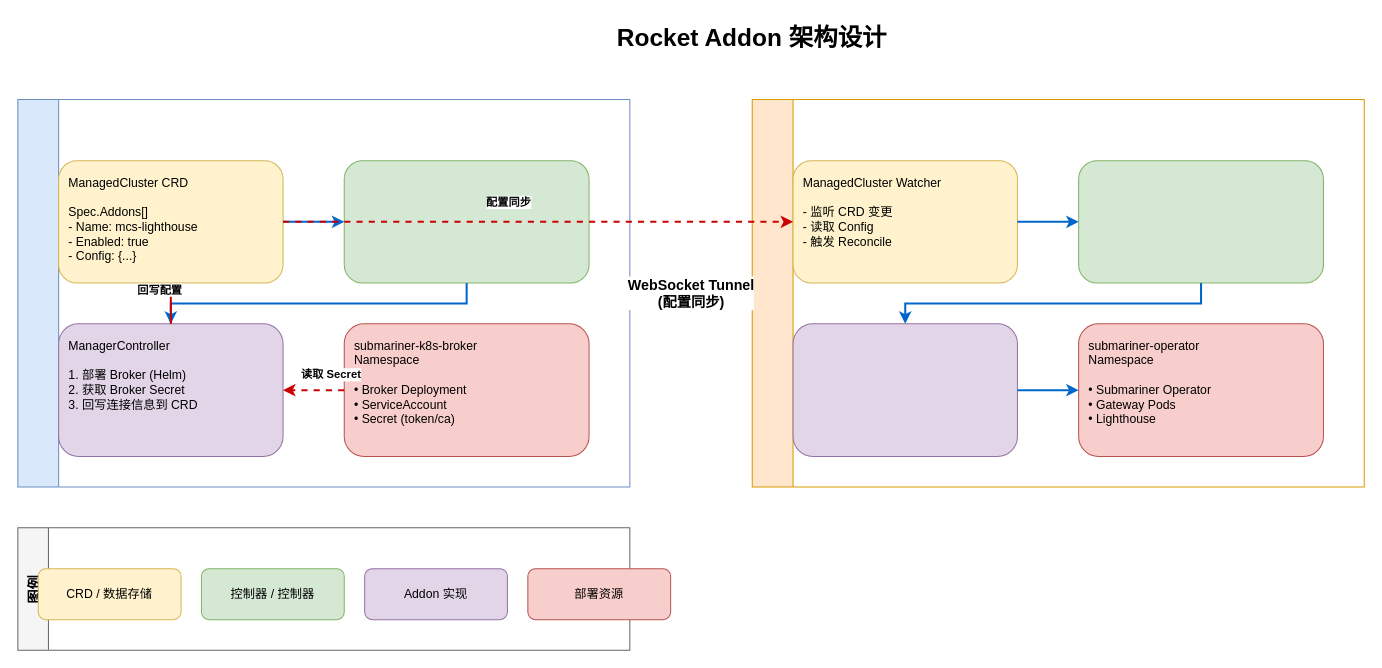
The diagram is 1382 pixels wide and 668 high, and some of its shapes have lost their labels. Each missing label, with the box of its shape:
AddonReconciler - 监听 ManagedCluster - 调用已注册的 Addon - 传递 AddonConfig: (343, 160, 589, 283)
AddonRegistry • 全局注册表 • Register() 自动注册 • init() 初始化: (1078, 160, 1323, 283)
Agent 端 (Edge): (751, 98, 1364, 487)
AgentController 1. 读取 Broker 连接信息 2. 部署 Submariner (Helm) 3. 配置变更检测: (792, 323, 1017, 456)
Manager 端 (Hub): (17, 98, 630, 487)
